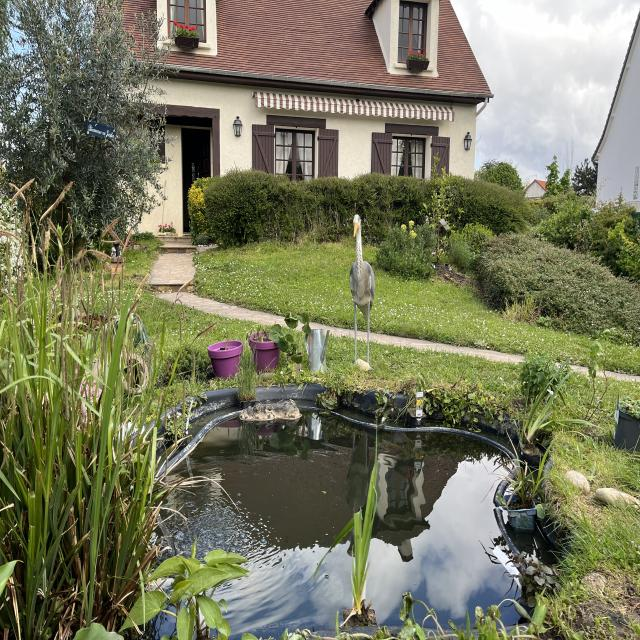Heron: (337, 206, 381, 378)
